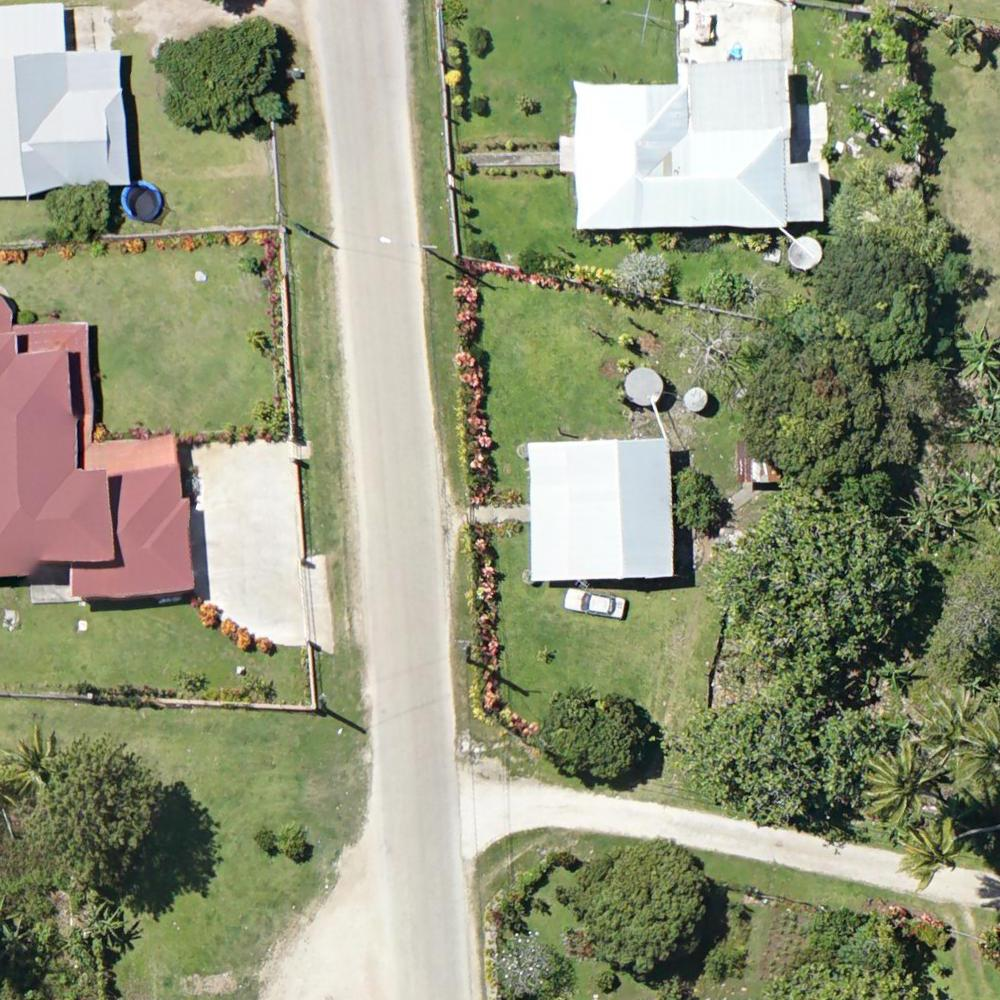not plam: (562, 693, 633, 757), (742, 568, 809, 633), (64, 749, 131, 811), (499, 919, 562, 983), (779, 360, 843, 422), (235, 807, 303, 865), (617, 869, 679, 929), (54, 186, 103, 240)
